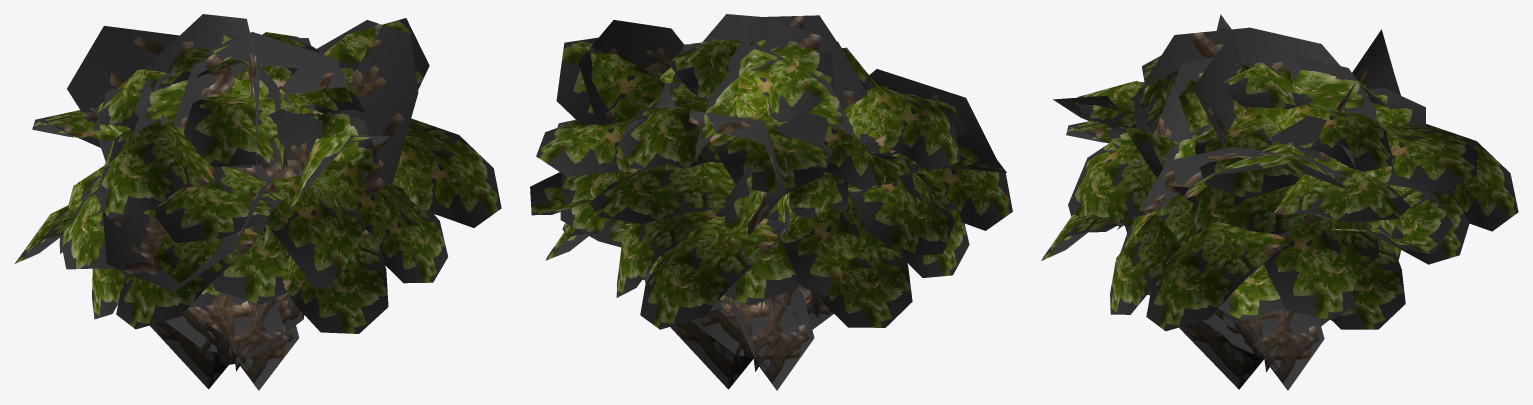
File: bush_05.obj
3 views of the same model, side by side, from view 1: azimuth 30°, elevation 25°; view 2: azimuth 150°, elevation 25°; view 3: azimuth 270°, elevation 25° (orthographic). The views are drawn at different scales.
Visible parts, largest first — view 1: bush_05; view 2: bush_05; view 3: bush_05.
Part boxes in pixels (bbox=[...]): bush_05: bbox=[14, 14, 501, 390]; bush_05: bbox=[530, 14, 1012, 390]; bush_05: bbox=[1041, 14, 1518, 390].
Bounding box in the file's own units: 131 × 109 × 131.
